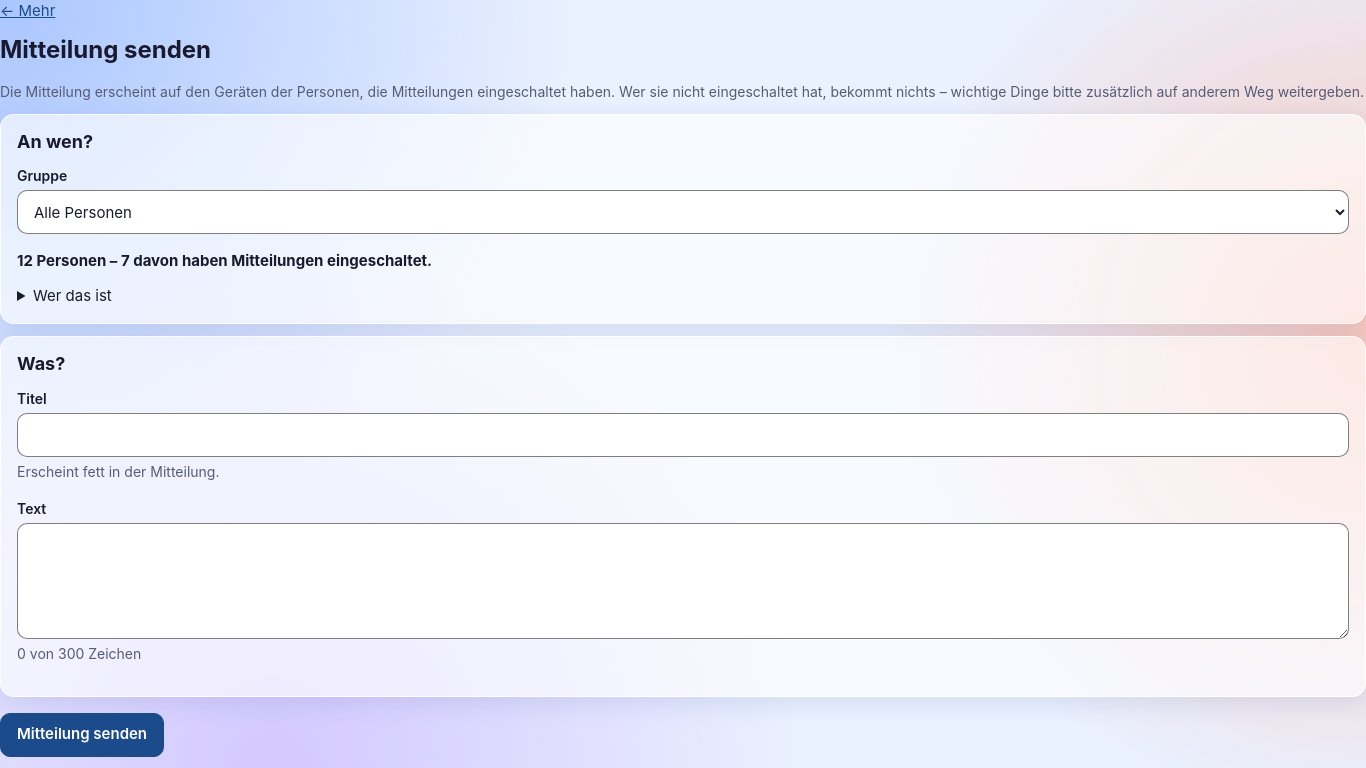
Test: Mitteilung senden (Koordination) › zeigt sofort die Reichweite der ersten Gruppe und wer das ist
Expected: the text "12 Personen – 7 davon haben Mitteilungen eingeschaltet." is shown, [17,251,432,270]
Step 1. Click the heading "Wer das ist" → [72, 295], box [33,286,112,304]
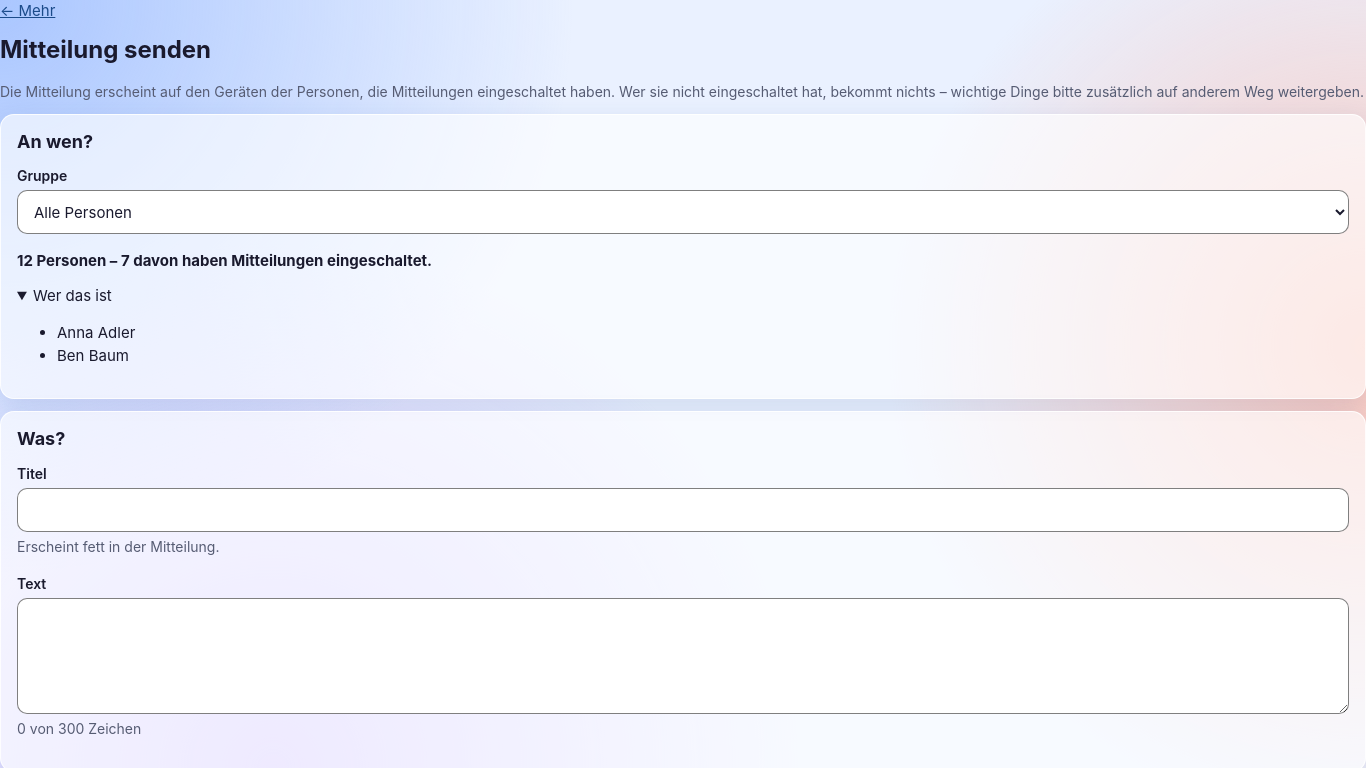
Now the list items read "Anna Adler", "Ben Baum", in this order, box [57,323,135,342]; [57,346,129,364]
